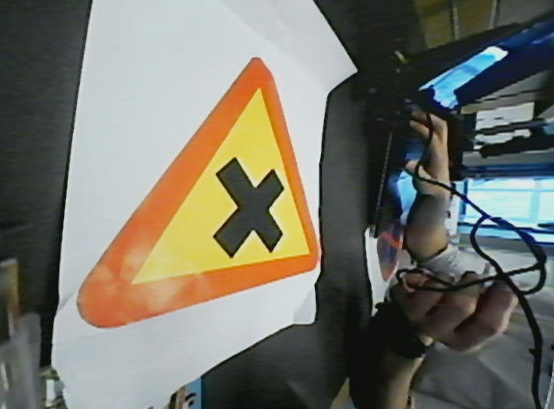junction: (59, 41, 322, 308)
